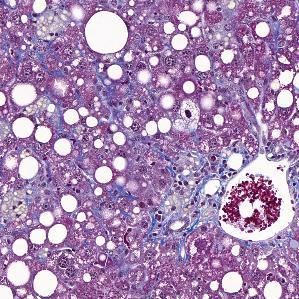fibrosis: (142, 156, 228, 228)
